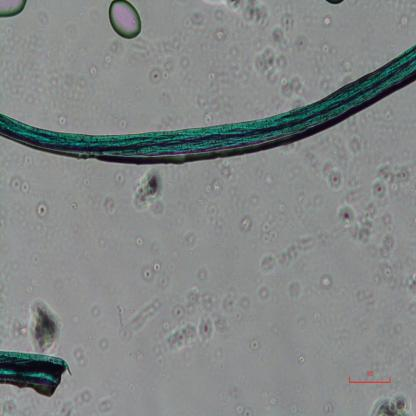Air bubble: (107, 2, 144, 40), (0, 0, 29, 19)
Background material: (354, 158, 416, 255), (162, 291, 224, 358), (250, 32, 310, 98), (0, 48, 61, 110), (252, 236, 319, 280), (111, 295, 162, 336), (25, 299, 63, 353), (203, 165, 246, 211), (130, 166, 168, 210), (0, 385, 45, 416), (226, 0, 276, 26), (378, 268, 416, 302), (148, 41, 175, 87), (366, 391, 414, 415), (224, 286, 249, 330), (313, 155, 343, 191), (61, 77, 98, 106), (319, 42, 339, 90), (0, 307, 28, 337), (182, 3, 208, 32), (197, 95, 223, 122), (63, 393, 92, 414), (144, 262, 165, 291), (0, 264, 15, 304), (344, 132, 367, 158), (72, 338, 89, 370), (227, 50, 245, 79), (393, 12, 416, 34), (203, 70, 224, 94), (338, 202, 356, 230), (276, 12, 296, 37), (179, 54, 194, 85), (9, 173, 31, 194), (95, 393, 114, 416), (264, 390, 282, 414), (235, 215, 256, 235), (150, 342, 167, 366), (256, 166, 274, 188), (109, 168, 127, 189), (319, 272, 337, 292), (258, 227, 280, 242), (63, 20, 81, 38), (248, 187, 264, 207), (211, 19, 226, 40), (131, 232, 146, 252), (102, 194, 116, 215), (288, 281, 304, 298), (255, 282, 268, 302), (54, 114, 70, 130), (318, 13, 335, 28), (248, 334, 262, 352), (88, 306, 105, 320), (321, 399, 335, 416), (97, 338, 112, 353), (290, 402, 306, 416), (27, 274, 38, 294), (165, 88, 175, 110), (234, 404, 252, 416), (78, 176, 96, 188), (232, 382, 242, 403), (35, 203, 50, 217), (296, 343, 305, 365), (67, 196, 78, 214), (30, 249, 43, 264), (111, 38, 123, 53), (327, 1, 345, 10), (119, 119, 129, 135), (199, 271, 209, 283), (100, 54, 112, 64), (186, 232, 194, 247), (88, 66, 99, 76), (382, 112, 392, 123), (137, 352, 146, 362), (278, 206, 287, 213)
Microfibre: (0, 43, 416, 164), (0, 348, 71, 388)
